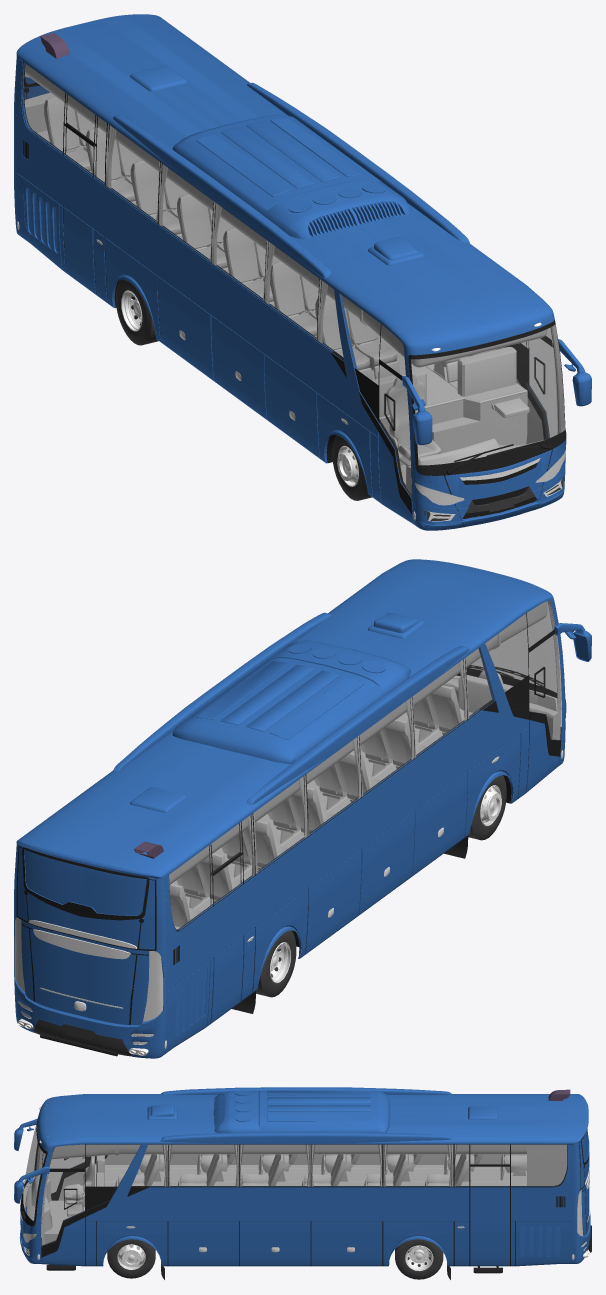
Rendered from ecoline_blue.glb.
3 views of the same model, one above another, from view 1: azimuth 30°, elevation 25°; view 2: azimuth 150°, elevation 25°; view 3: azimuth 270°, elevation 25° (orthographic). The views are drawn at different scales.
Parts seen in each view (by area): view 1: bodi, kaca, ac, kursi, lis, lantai, sayap, dek, skat, ban, gorden, kursi_supir (+8 smaller); view 2: bodi, kaca, ac, kursi, sayap, lis, dek, lantai, ban, krum, lampu_blkng, gorden (+7 smaller); view 3: bodi, kaca, ac, kursi, lis, lantai, dek, sayap, daleman, ban, wc, gorden (+7 smaller).
Part boxes in pixels (x1=…): bodi: x1=14, y1=14, x2=566, y2=530; kaca: x1=22, y1=63, x2=564, y2=497; ac: x1=130, y1=65, x2=425, y2=265; kursi: x1=44, y1=97, x2=496, y2=382; lis: x1=16, y1=62, x2=566, y2=526; lantai: x1=24, y1=93, x2=527, y2=484; sayap: x1=113, y1=82, x2=469, y2=278; dek: x1=25, y1=63, x2=547, y2=367; skat: x1=372, y1=347, x2=516, y2=416; ban: x1=116, y1=279, x2=372, y2=500; gorden: x1=104, y1=124, x2=327, y2=343; kursi_supir: x1=386, y1=373, x2=441, y2=465; bodi: x1=14, y1=559, x2=566, y2=1058; kaca: x1=169, y1=601, x2=560, y2=930; ac: x1=130, y1=613, x2=425, y2=812; kursi: x1=169, y1=685, x2=472, y2=927; sayap: x1=113, y1=612, x2=469, y2=805; lis: x1=16, y1=601, x2=566, y2=1024; dek: x1=151, y1=601, x2=547, y2=884; lantai: x1=172, y1=712, x2=442, y2=929; ban: x1=256, y1=775, x2=506, y2=997; krum: x1=28, y1=920, x2=137, y2=1008; lampu_blkng: x1=14, y1=917, x2=163, y2=1044; gorden: x1=247, y1=658, x2=469, y2=875; bodi: x1=19, y1=1094, x2=590, y2=1266; kaca: x1=23, y1=1122, x2=566, y2=1245; ac: x1=147, y1=1090, x2=497, y2=1133; kursi: x1=115, y1=1154, x2=526, y2=1186; lis: x1=20, y1=1118, x2=589, y2=1266; lantai: x1=44, y1=1165, x2=526, y2=1243; dek: x1=52, y1=1144, x2=526, y2=1159; sayap: x1=160, y1=1087, x2=451, y2=1143; daleman: x1=23, y1=1146, x2=501, y2=1237; ban: x1=107, y1=1239, x2=443, y2=1279; wc: x1=527, y1=1144, x2=567, y2=1185; gorden: x1=162, y1=1144, x2=457, y2=1186.
Bounding box in the file's own units: 2.88 × 3.59 × 12.22.
